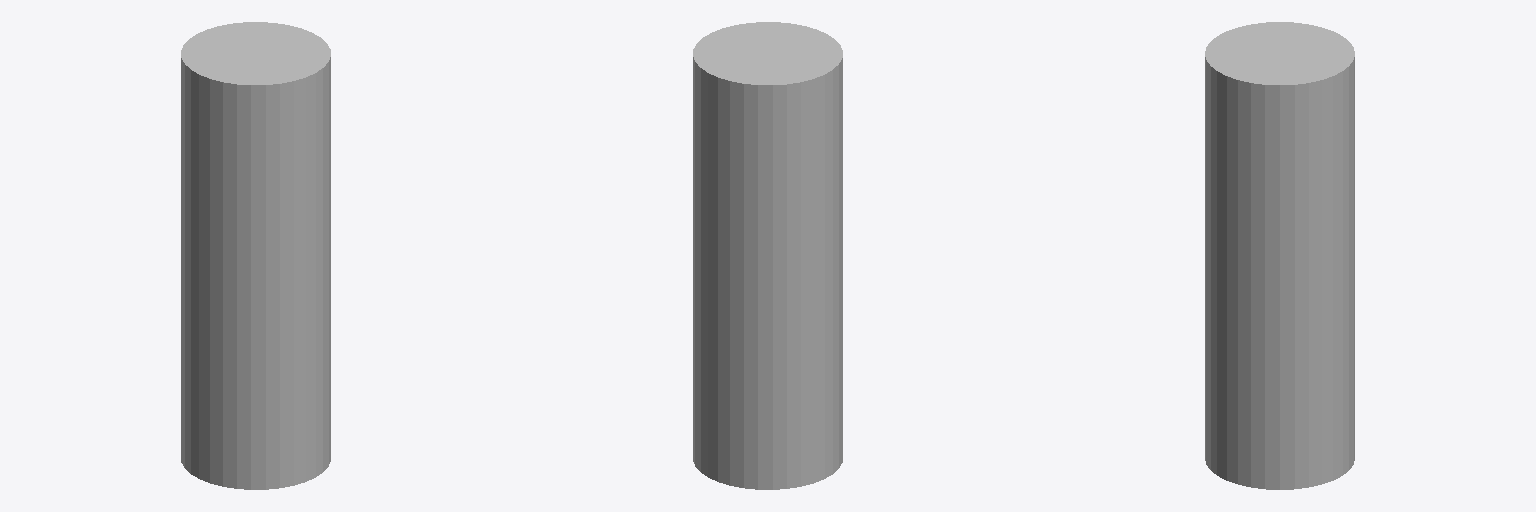
Rendered from col.obj.
3 renders of one model, left to right at view 1: azimuth 30°, elevation 25°; view 2: azimuth 150°, elevation 25°; view 3: azimuth 270°, elevation 25°, orthographic.
Parts seen in each view (by area): view 1: COL; view 2: COL; view 3: COL.
Boxes of the visible parts, <box> form: COL: <box>181,22,330,489</box>; COL: <box>693,22,842,489</box>; COL: <box>1205,22,1354,489</box>.
Size of the model in its own units: 0.1 by 0.2967 by 0.1.